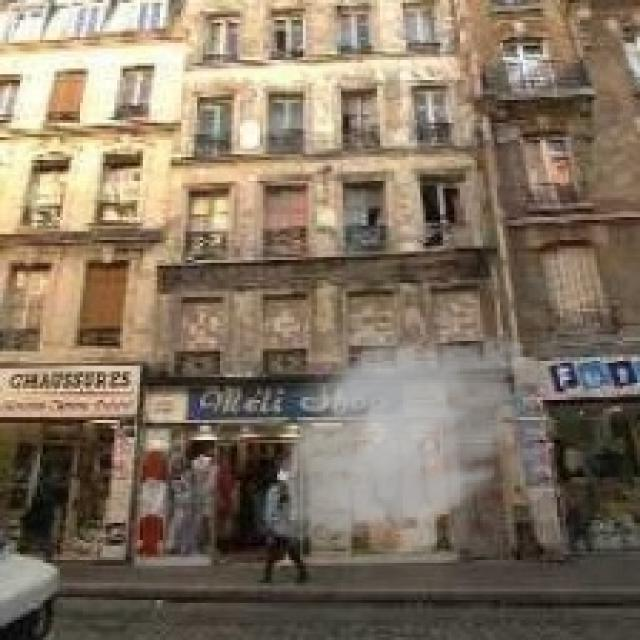Smoke: (260, 317, 537, 566)
